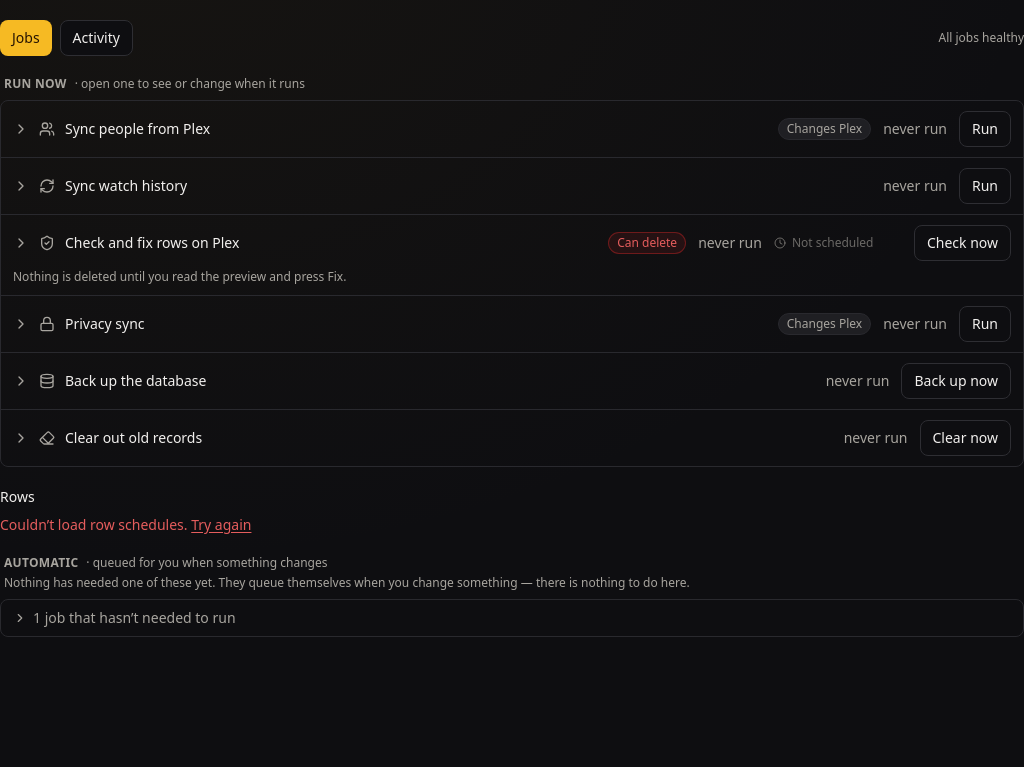
Scenario: JobsPage — sync check › confirms at the click before deleting a collection
Click the button with aria-label "Check now: Check and fix rows on Plex".
click(962, 243)  # box left=914, top=225, right=1011, bottom=261
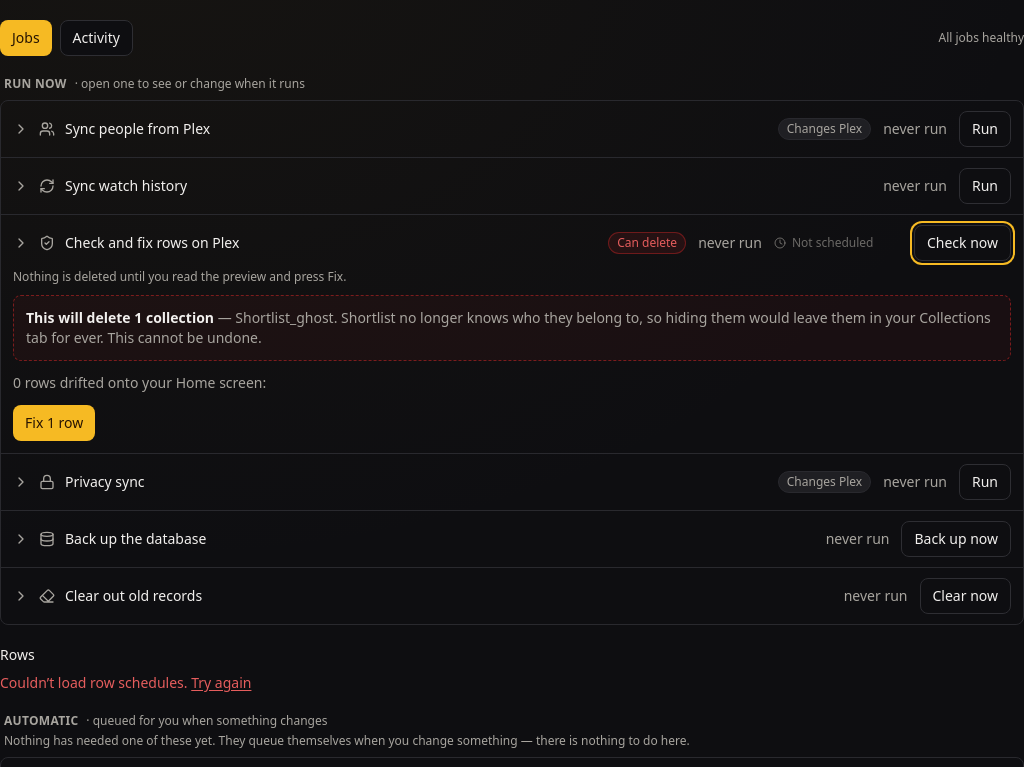
Click the button "Fix 1 row".
click(54, 423)  # box left=13, top=405, right=95, bottom=441
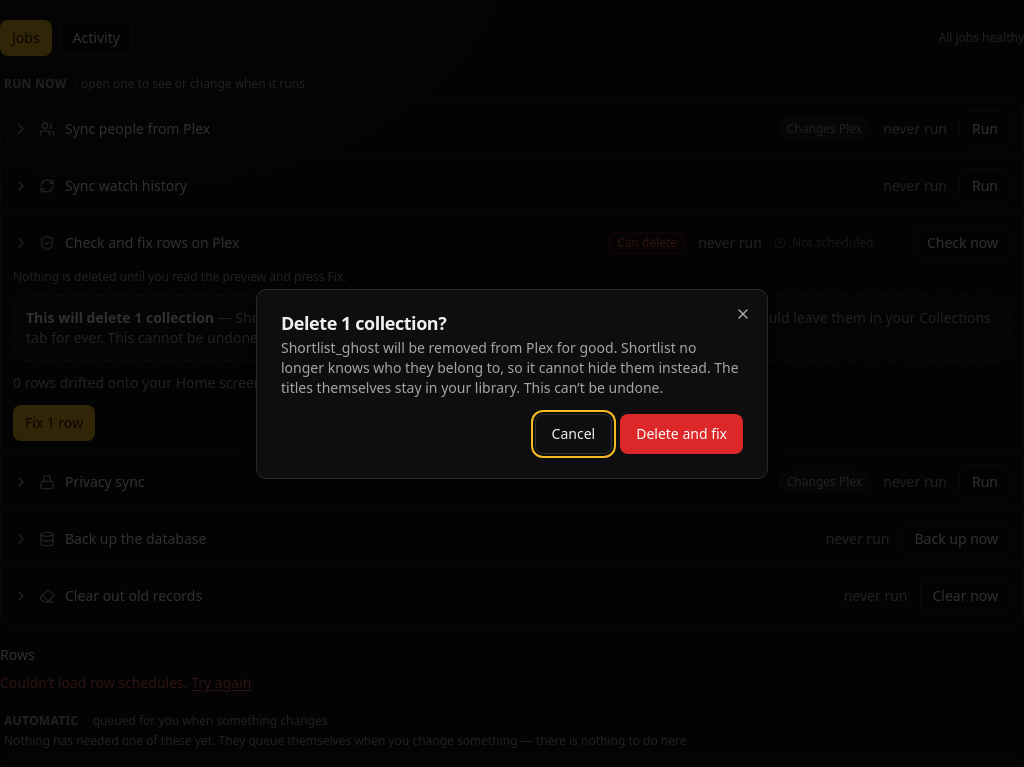
Expected: the dialog "Delete 1 collection" is shown, left=256, top=289, right=768, bottom=479
